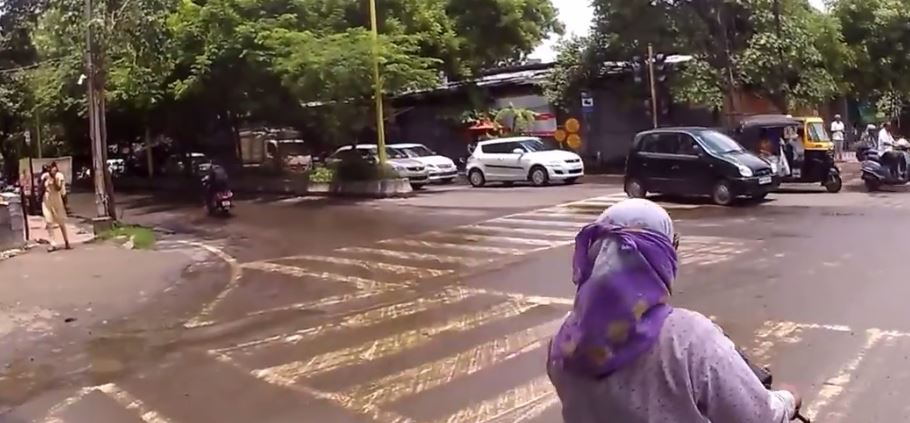autorickshaw: (751, 109, 843, 193)
car: (621, 122, 777, 218), (462, 128, 588, 198), (393, 135, 459, 189)
